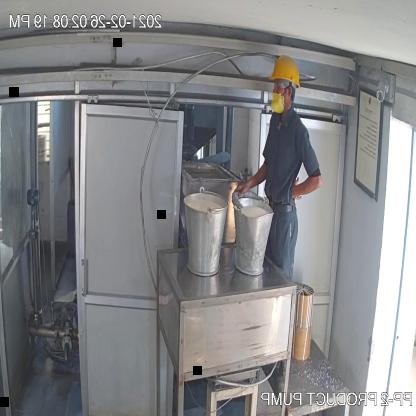helmet: (270, 51, 302, 98)
